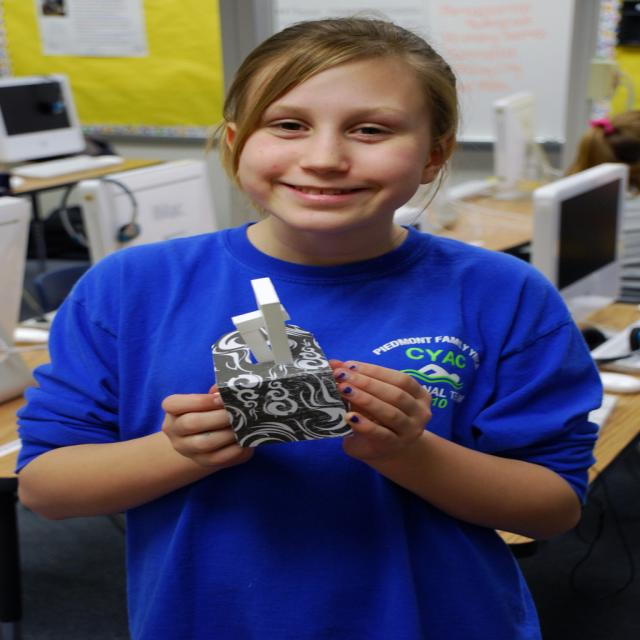no_helmet: (268, 26, 421, 99)
